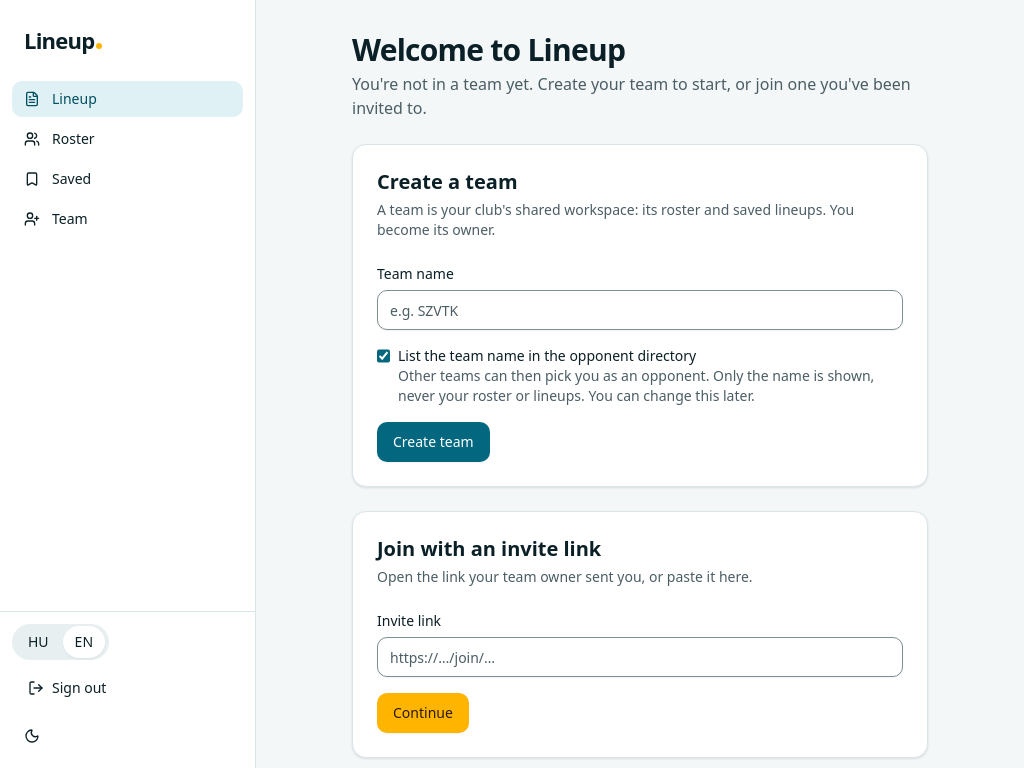
pasting an invite link on the onboarding screen › rejects  before leaving the page
Click the button "Continue": coordinates (423, 713) [377, 693, 469, 733]
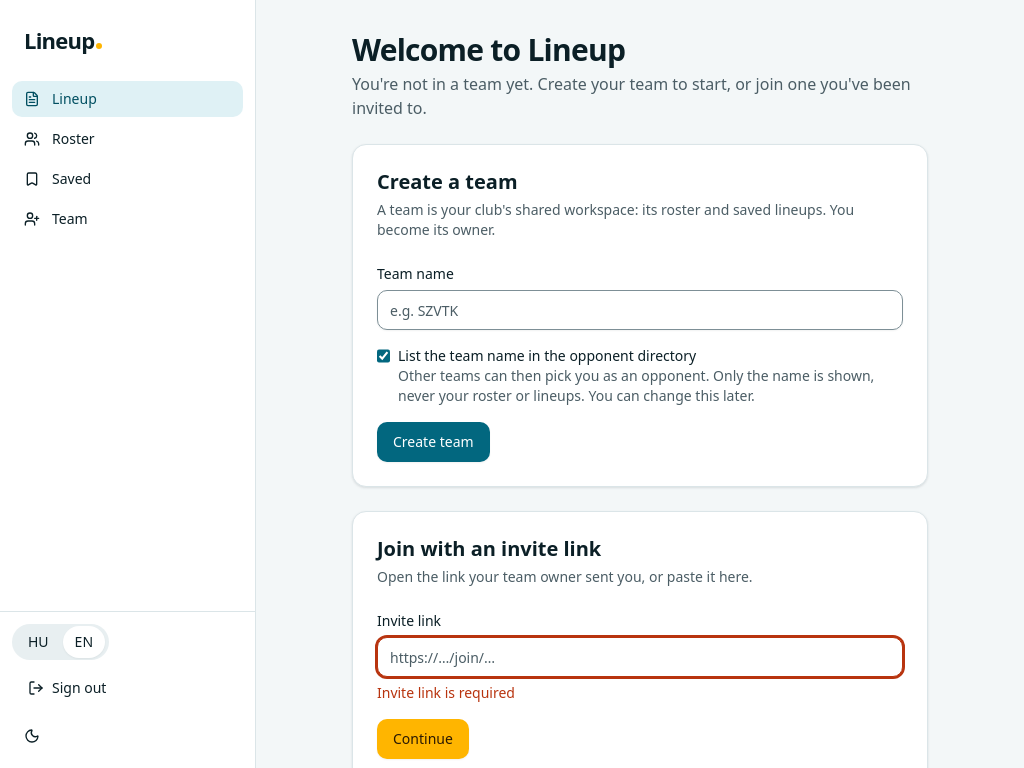
Result: the text "Invite link is required" is shown at [377, 683, 515, 702]
